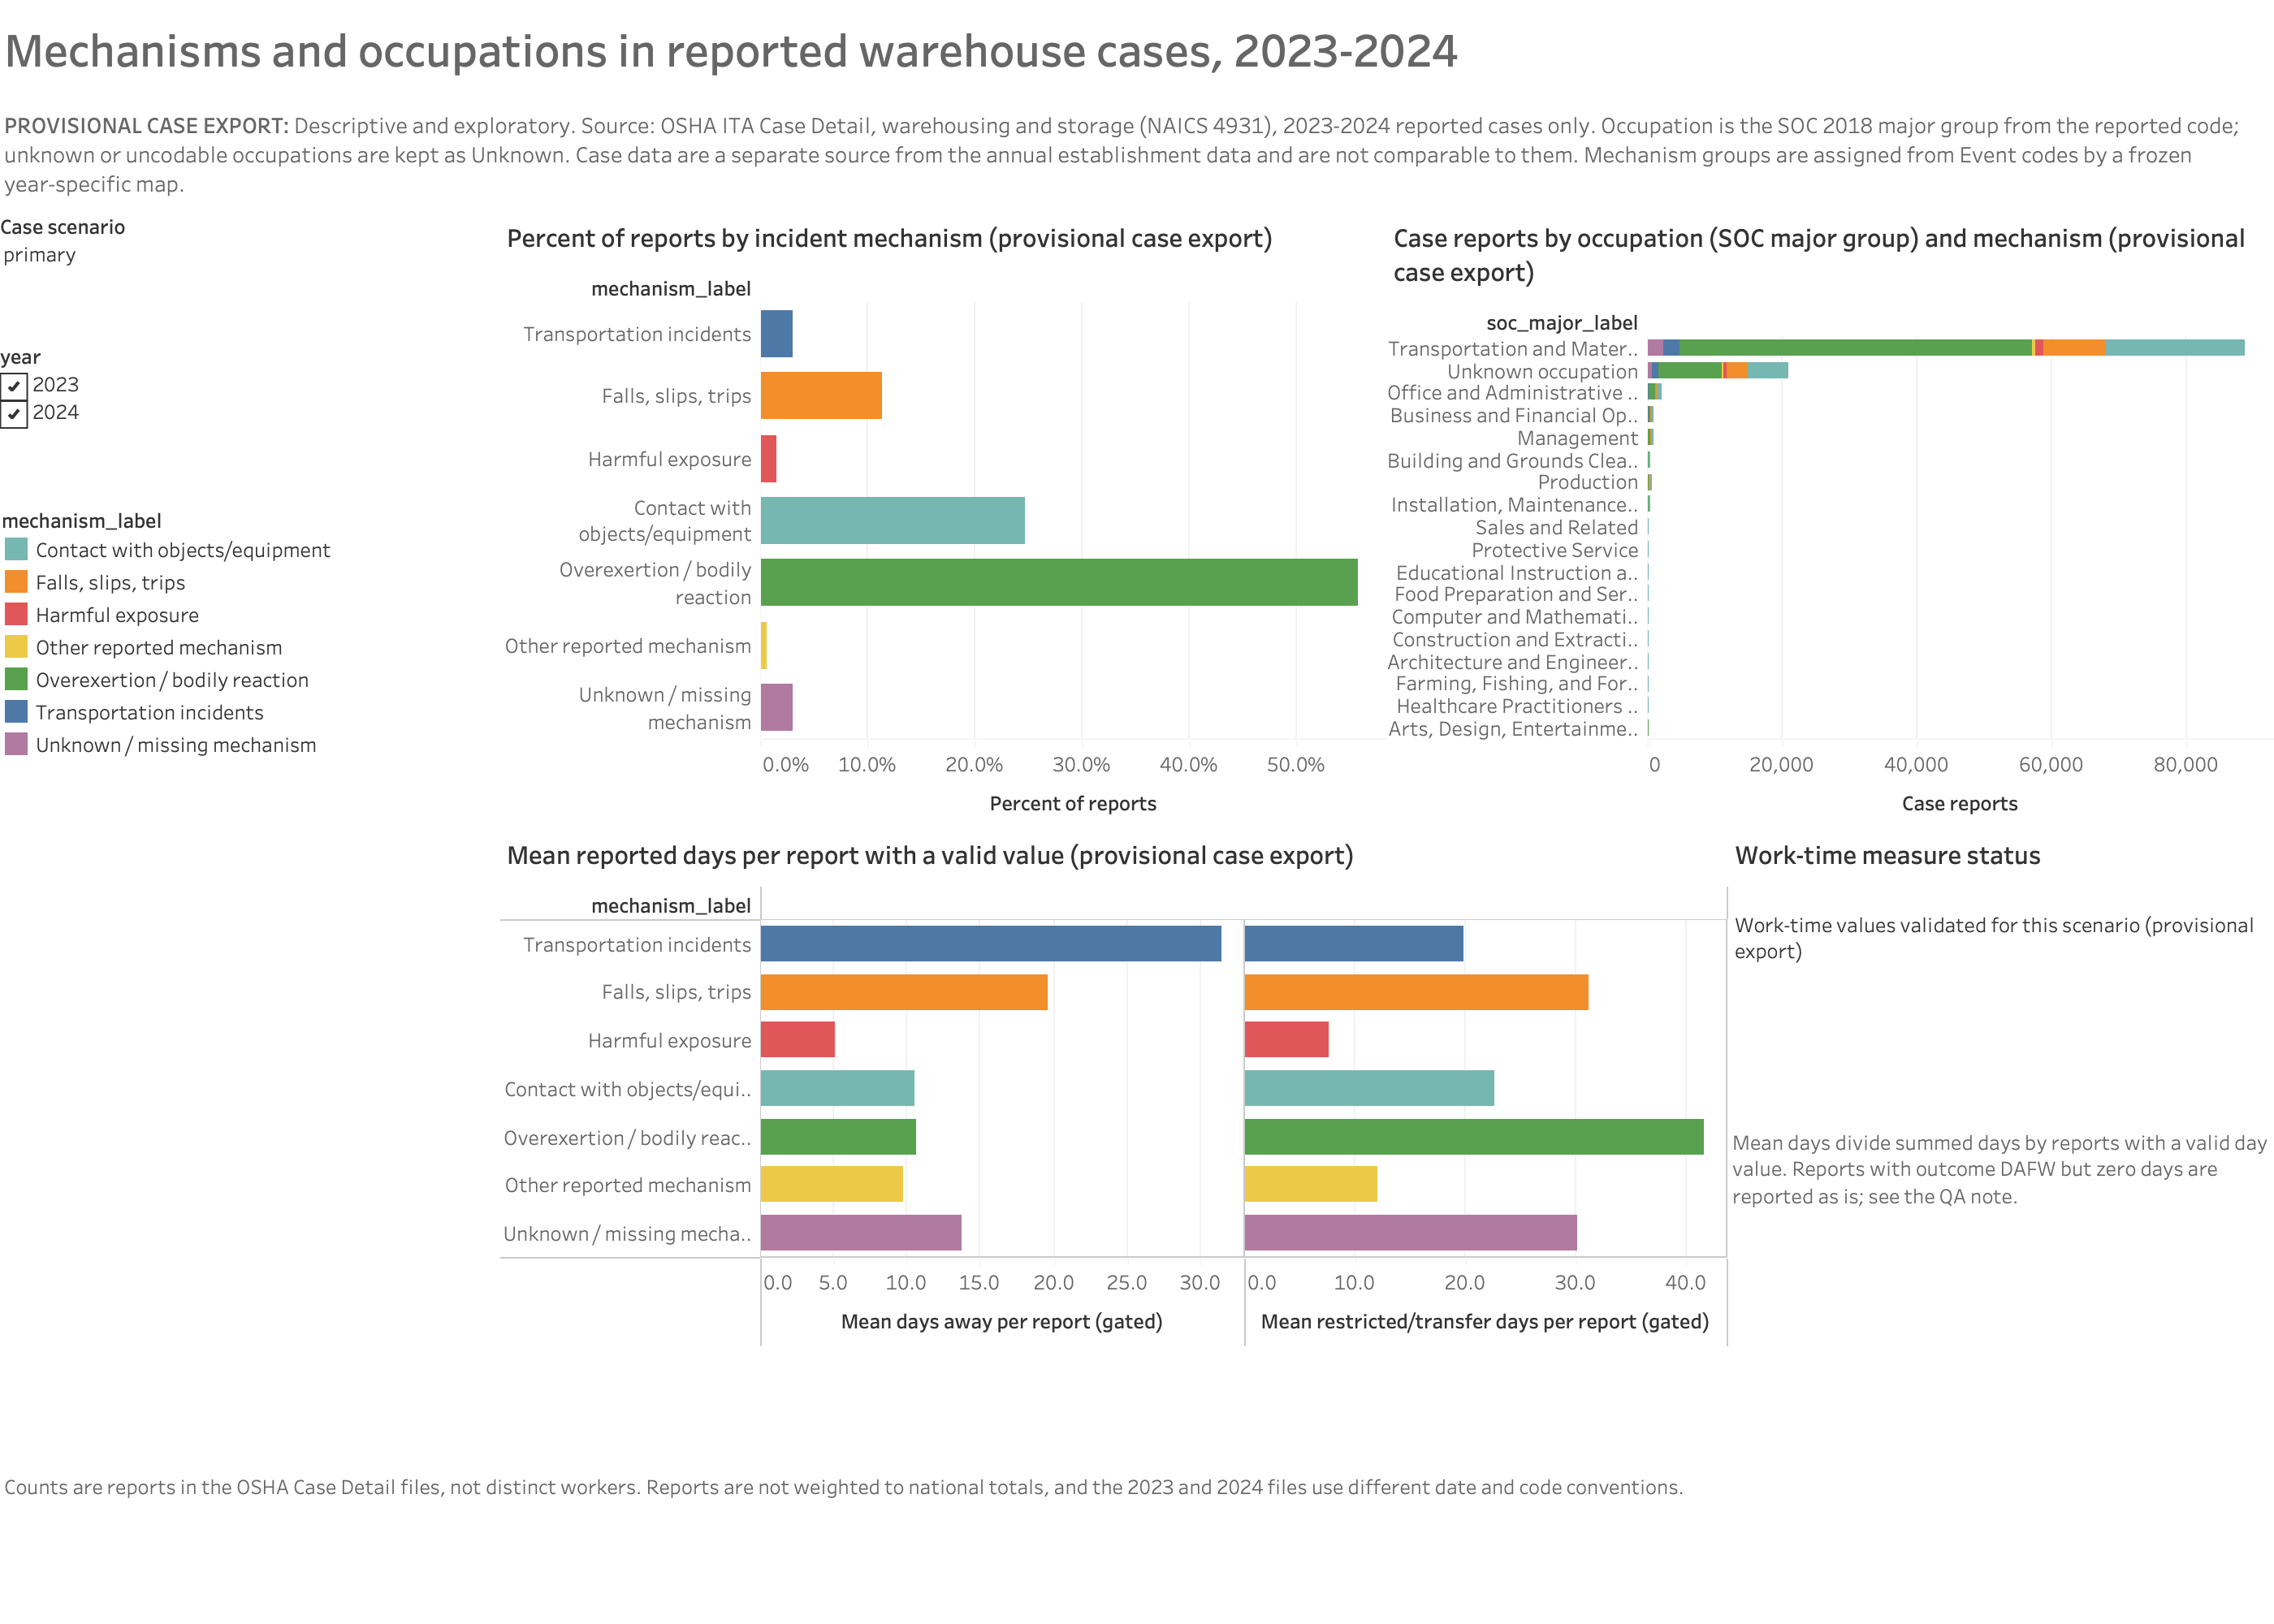

The dashboard page shown, as its layout file describes it:
{"tool":"tableau","page":{"name":"Case dashboard","canvas":[1400,1000],"ordinal":1},"visuals":[{"type":"text","box":[0,0,1400,60]},{"type":"text","box":[0,60,1400,70]},{"type":"parameter","param":"[Parameters].[Parameter 2]","box":[0,130,308,80]},{"type":"worksheet","title":"Case mechanism share","mark":"Bar","rows":["mechanism_label"],"cols":["Calculation_1300000000000003"],"box":[308,130,546,380]},{"type":"worksheet","title":"Case occupation by mechanism","mark":"Bar","rows":["soc_major_label"],"cols":["Calculation_1300000000000002"],"box":[854,130,546,380]},{"type":"filter","title":"Case mechanism share","param":"[federated.1rxrgdq1t0yllh102evw9053jy3i].[none:year:ok]","box":[0,210,308,100]},{"type":"legend","title":"Case occupation by mechanism","param":"[federated.1rxrgdq1t0yllh102evw9053jy3i].[none:mechanism_label:nk]","box":[0,310,308,220]},{"type":"worksheet","title":"Case days by mechanism","mark":"Bar","rows":["mechanism_label"],"cols":["Calculation_1300000000000004","Calculation_1300000000000005"],"box":[308,510,756,320]},{"type":"worksheet","title":"Case days gate","mark":"Text","box":[1064,510,336,100]},{"type":"text","box":[1064,610,336,220]},{"type":"text","box":[0,830,1400,170]}]}

Visuals, with their boxes in screenshot pixels (x1, y1, x2, y2), scaled from the page's 1400x1000 canvas onto the 2274x1624 screenshot:
text: [left=0, top=0, right=2273, bottom=97]
text: [left=0, top=97, right=2273, bottom=211]
parameter: [left=0, top=211, right=500, bottom=341]
"Case mechanism share" worksheet (Bar marks): [left=500, top=211, right=1387, bottom=828]
"Case occupation by mechanism" worksheet (Bar marks): [left=1387, top=211, right=2273, bottom=828]
"Case mechanism share" filter: [left=0, top=341, right=500, bottom=503]
"Case occupation by mechanism" legend: [left=0, top=503, right=500, bottom=861]
"Case days by mechanism" worksheet (Bar marks): [left=500, top=828, right=1728, bottom=1348]
"Case days gate" worksheet (Text marks): [left=1728, top=828, right=2273, bottom=991]
text: [left=1728, top=991, right=2273, bottom=1348]
text: [left=0, top=1348, right=2273, bottom=1623]
